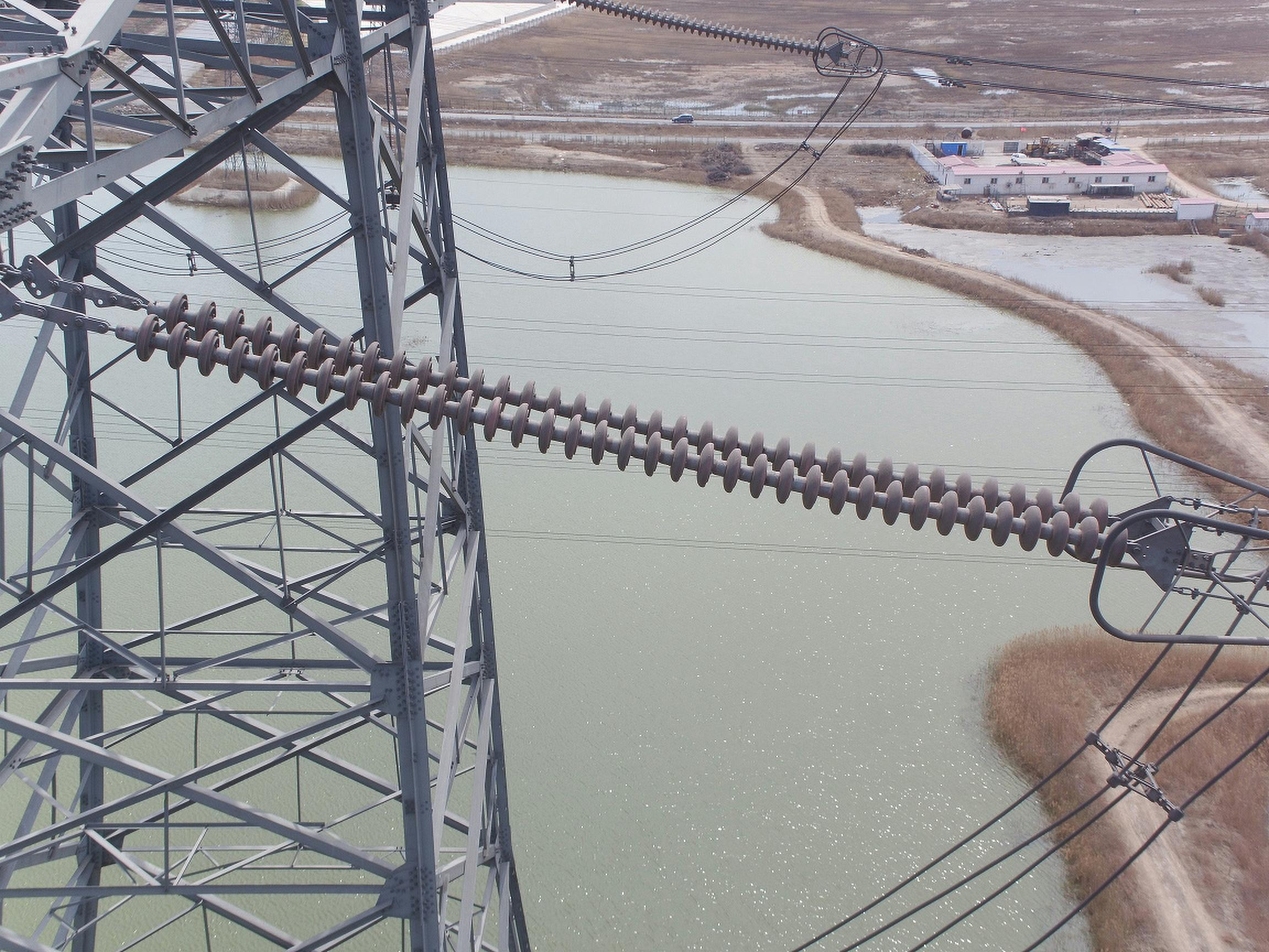insulator: (129, 289, 1135, 571), (554, 1, 831, 59)
